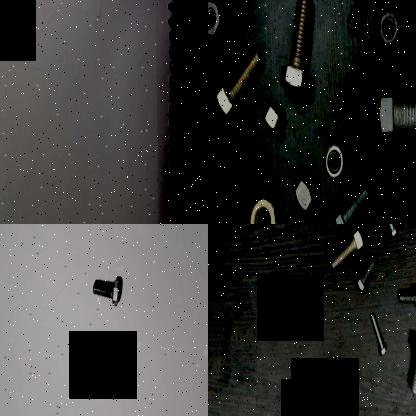Bolts: (208, 44, 265, 134), (275, 0, 322, 98), (368, 84, 416, 156), (327, 224, 367, 273), (333, 178, 375, 224), (340, 0, 381, 42), (113, 328, 138, 388), (92, 262, 122, 310), (352, 256, 382, 298), (367, 308, 389, 362), (394, 281, 416, 313), (408, 330, 416, 394), (381, 224, 399, 238)
NUTS: (291, 168, 320, 224), (261, 98, 287, 148), (374, 5, 400, 49), (245, 193, 279, 224), (324, 140, 344, 180), (208, 0, 223, 40)
